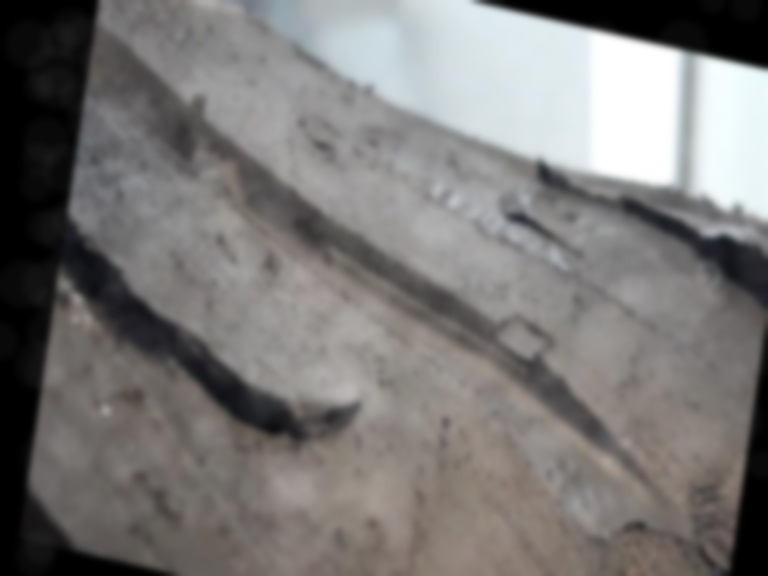temoin:25: (440, 272, 567, 387)
